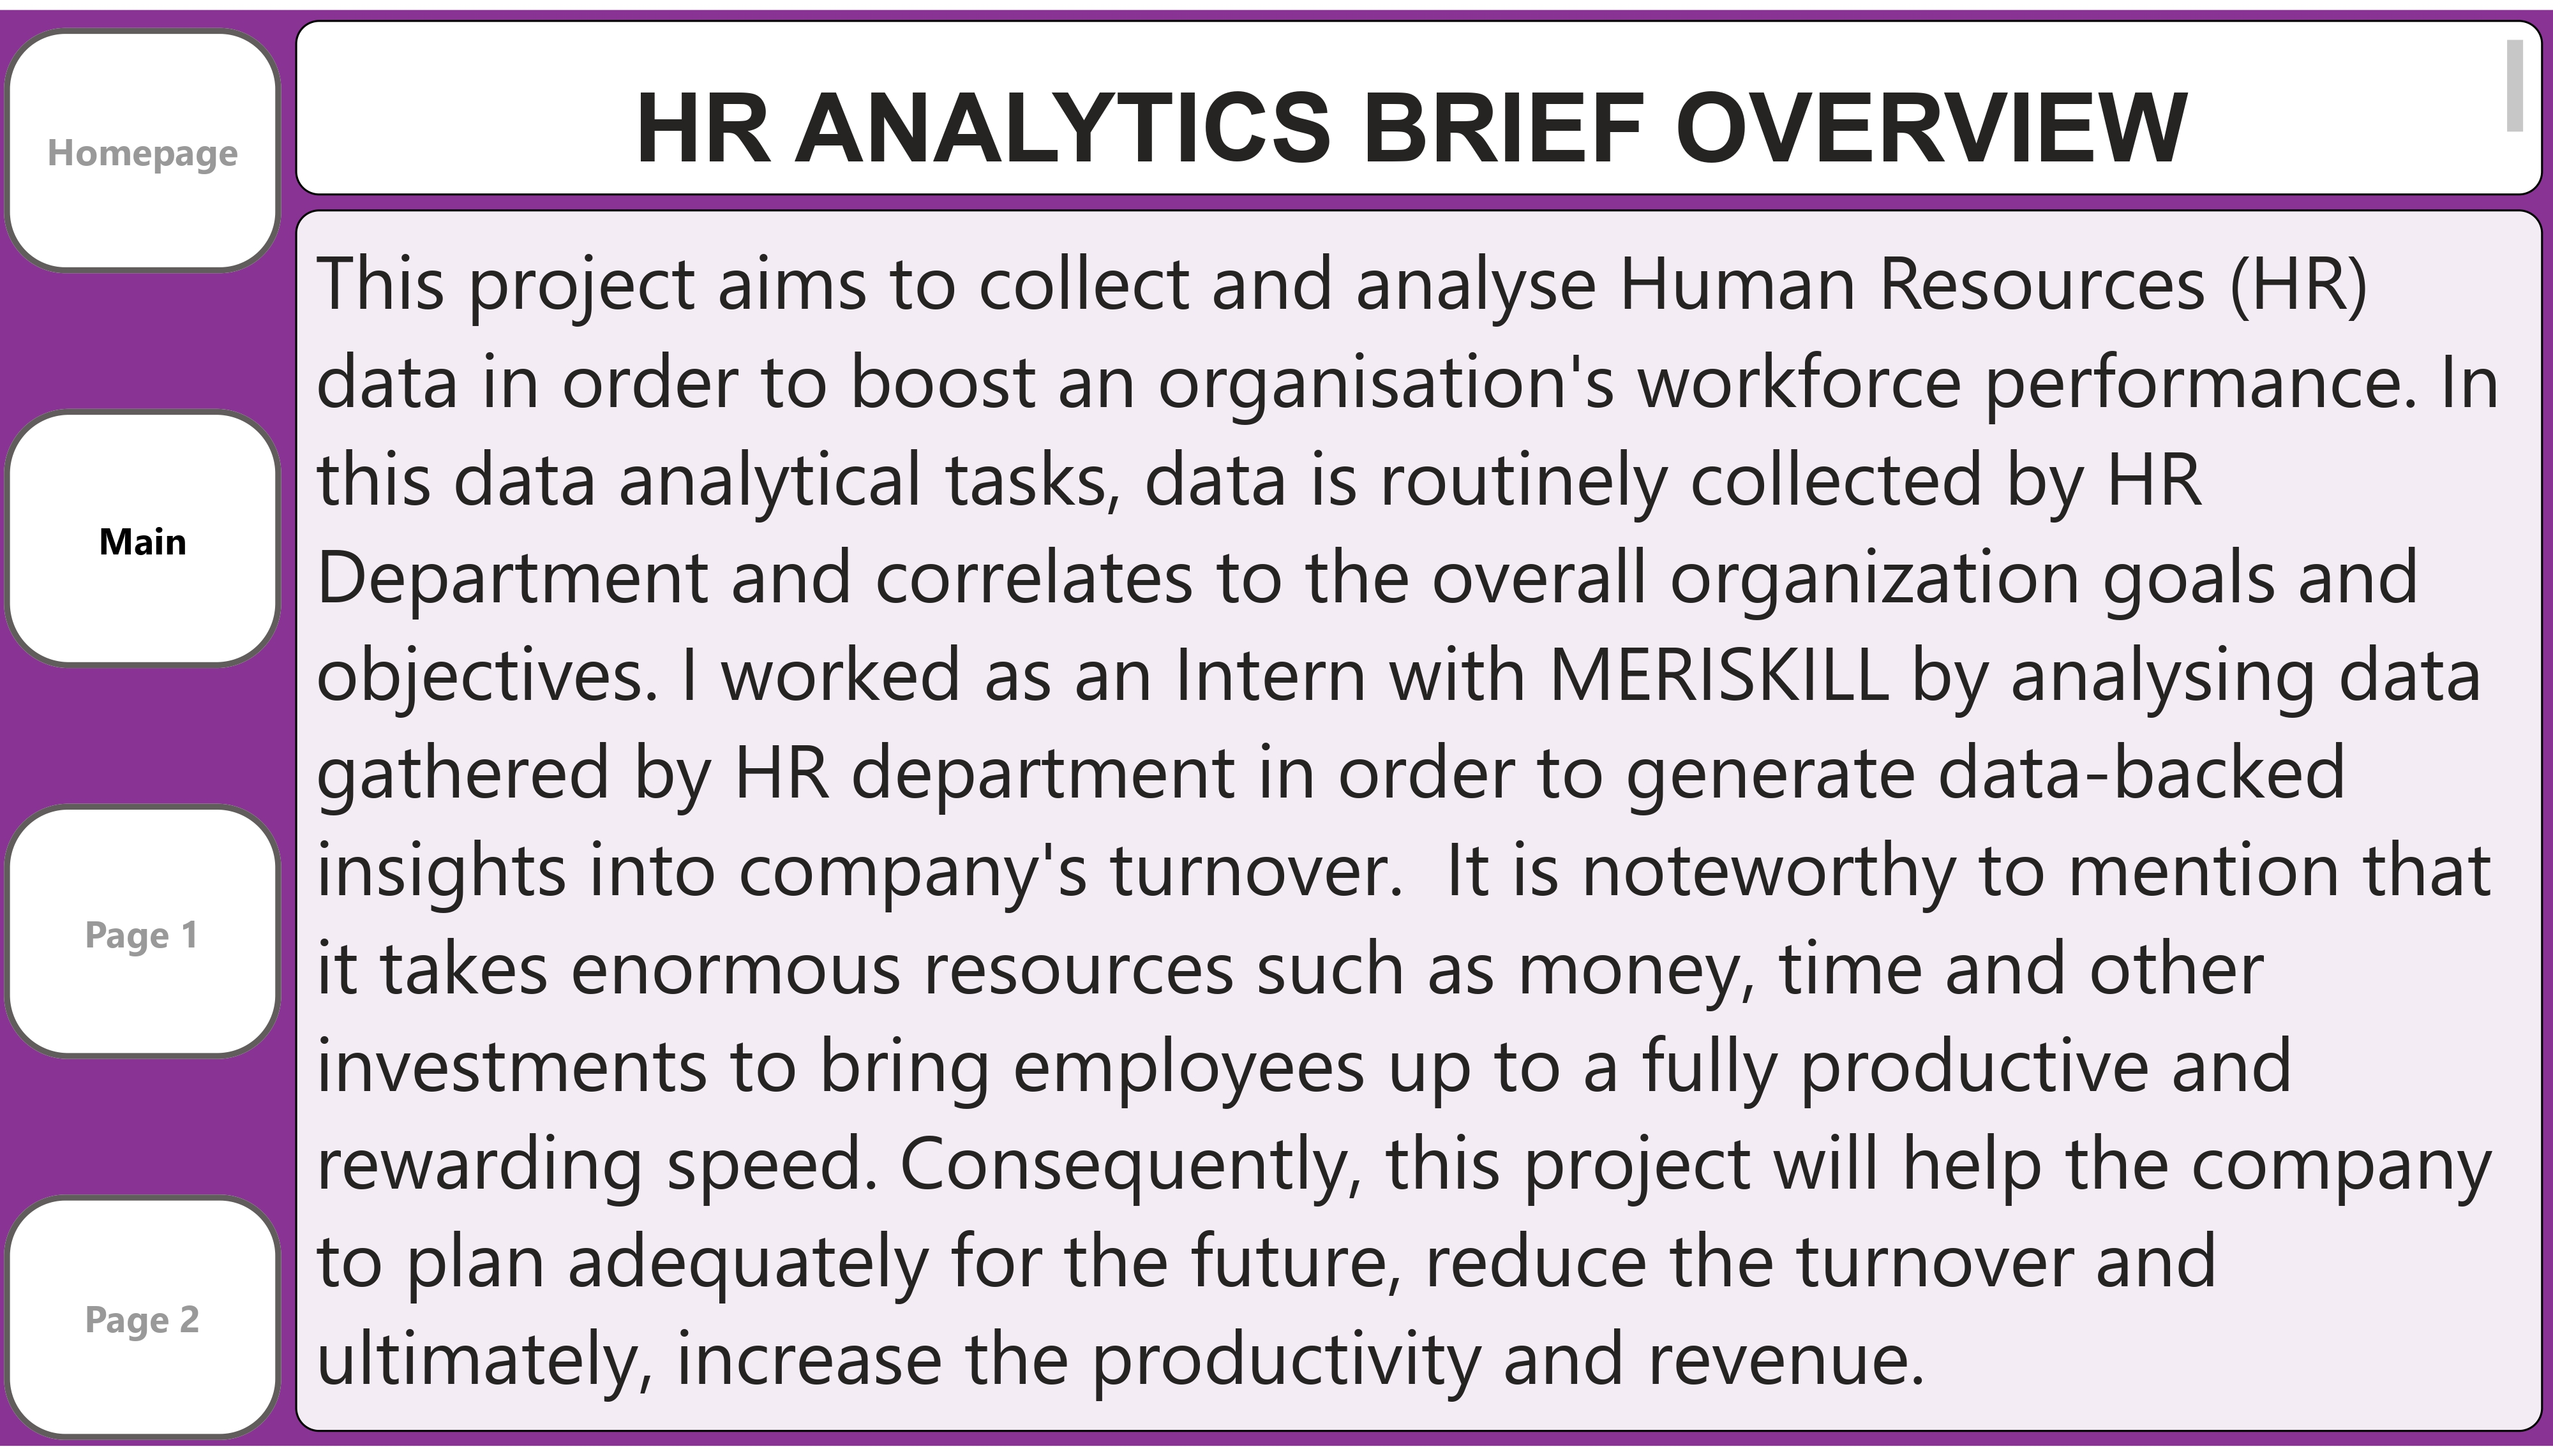

This screenshot's page, from the dashboard's own definition file:
{"tool":"powerbi","page":{"name":"Main","canvas":[1280,720],"ordinal":1},"visuals":[{"type":"textbox","box":[148.1,5.5,1127,88],"z":0},{"type":"actionButton","box":[2.3,199.7,139.1,130.1],"z":1000},{"type":"actionButton","box":[2.3,397.6,139.1,128.4],"z":2000},{"type":"actionButton","box":[2.3,593.7,139.1,123],"z":3000},{"type":"actionButton","box":[2.3,8.9,139.1,123],"z":4000},{"type":"textbox","box":[148.1,100.1,1127,612.9],"z":5000}]}

Visuals, with their boxes in screenshot pixels (x1, y1, x2, y2), scaled from the page's 1280x720 canvas onto the 2553x1456 screenshot:
textbox: [296, 11, 2543, 189]
actionButton: [4, 404, 282, 667]
actionButton: [4, 804, 282, 1064]
actionButton: [4, 1201, 282, 1450]
actionButton: [4, 18, 282, 267]
textbox: [296, 202, 2543, 1442]
